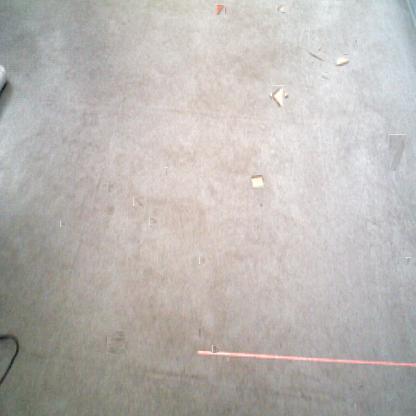dirty: (269, 88, 288, 106), (250, 174, 264, 188), (334, 54, 350, 66), (215, 5, 226, 15), (277, 4, 287, 13)
mark: (388, 134, 406, 171), (106, 332, 127, 352), (307, 48, 325, 64), (134, 196, 144, 207), (103, 182, 113, 192), (322, 71, 332, 81), (104, 204, 114, 214), (149, 218, 158, 227), (355, 384, 365, 392), (199, 256, 206, 264), (405, 257, 411, 266), (212, 346, 218, 353), (198, 327, 202, 337), (259, 201, 263, 209), (60, 221, 65, 227), (165, 167, 168, 176), (353, 38, 357, 44)
